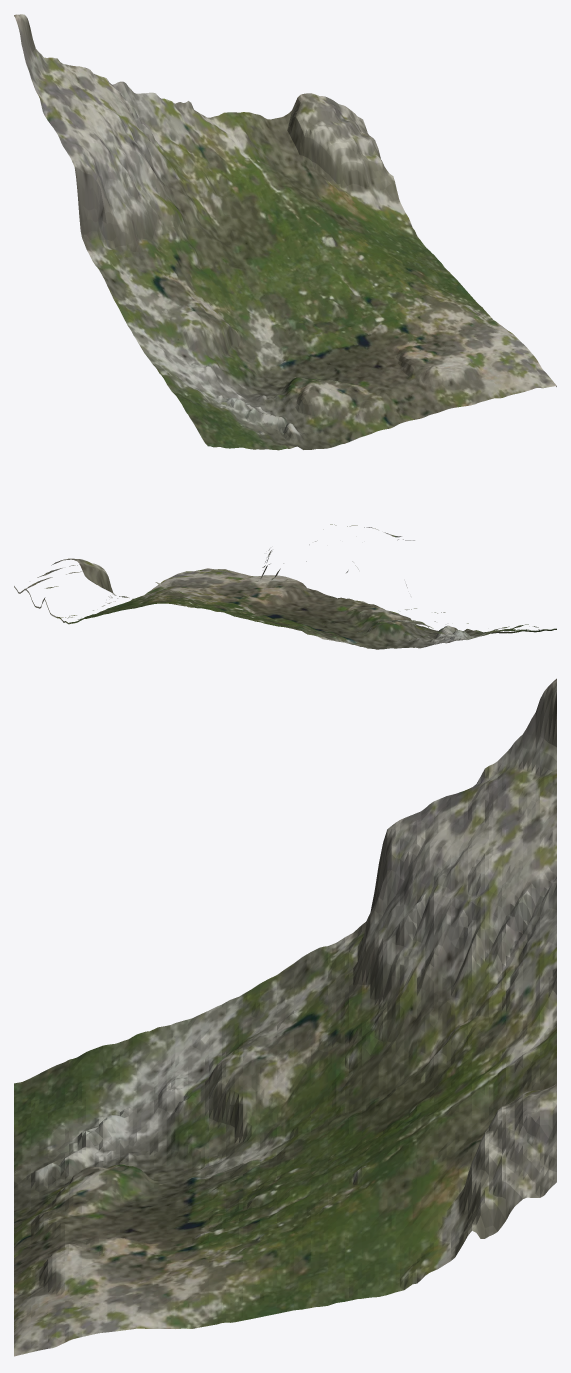
3 views of the same model, one above another, from view 1: azimuth 30°, elevation 25°; view 2: azimuth 150°, elevation 25°; view 3: azimuth 270°, elevation 25° (orthographic). The views are drawn at different scales.
Size of the model in its own units: 250 by 221 by 241.
Materials: 1 (1 with a texture image).
